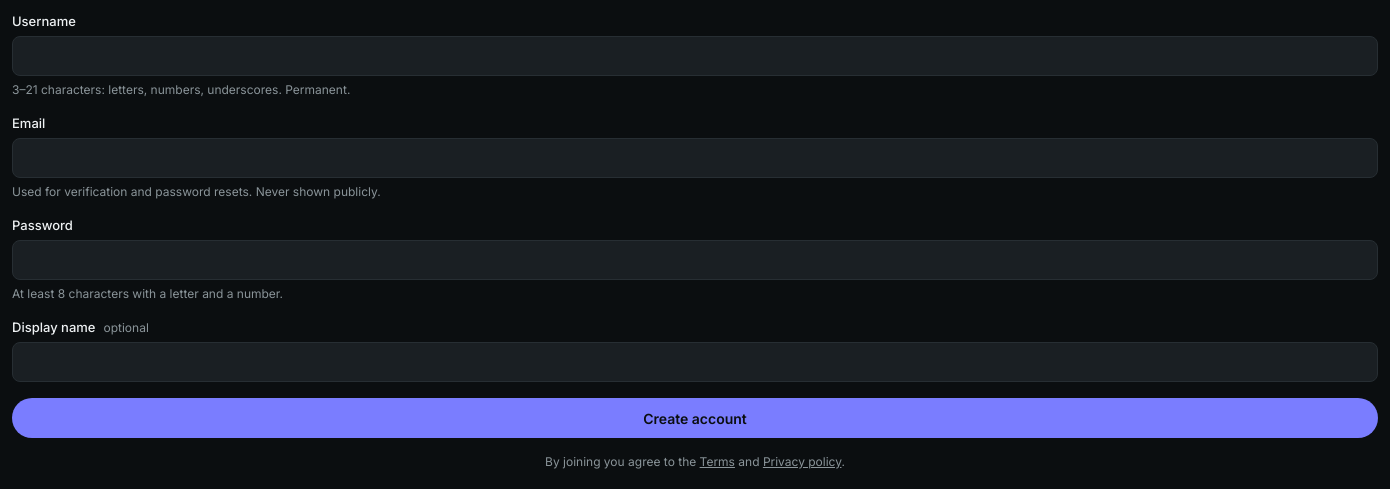
Test: RegisterForm › maps server field errors onto the matching inputs
The width and height of the screenshot is (1390, 489).
Type "ada_l" into the field labelled "Username".
click(695, 56); type("ada_l")  # box 12,36 -> 1378,76
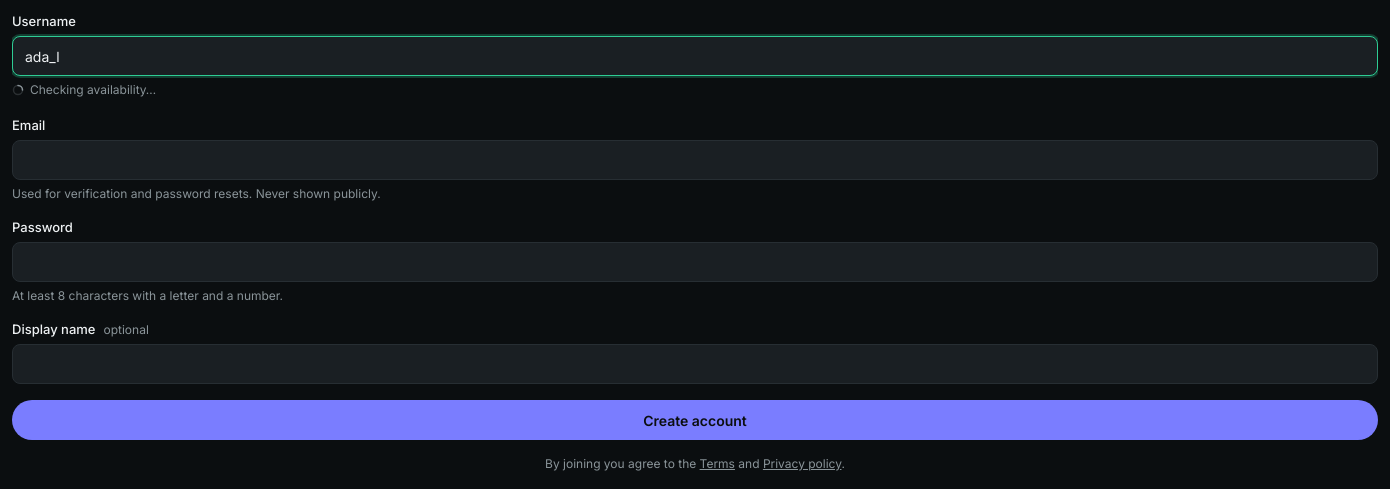
Type "ada@example.com" into the field labelled "Email".
click(695, 160); type("ada@example.com")  # box 12,140 -> 1378,180
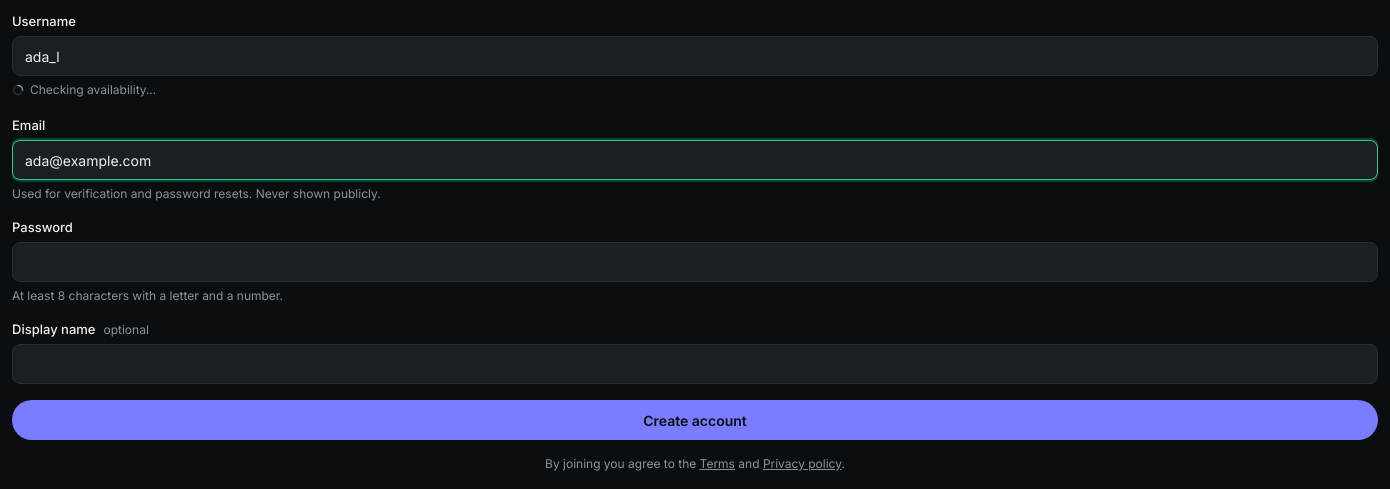
Type "abcd1234" into the password field labelled "Password".
click(695, 262); type("abcd1234")  # box 12,242 -> 1378,282
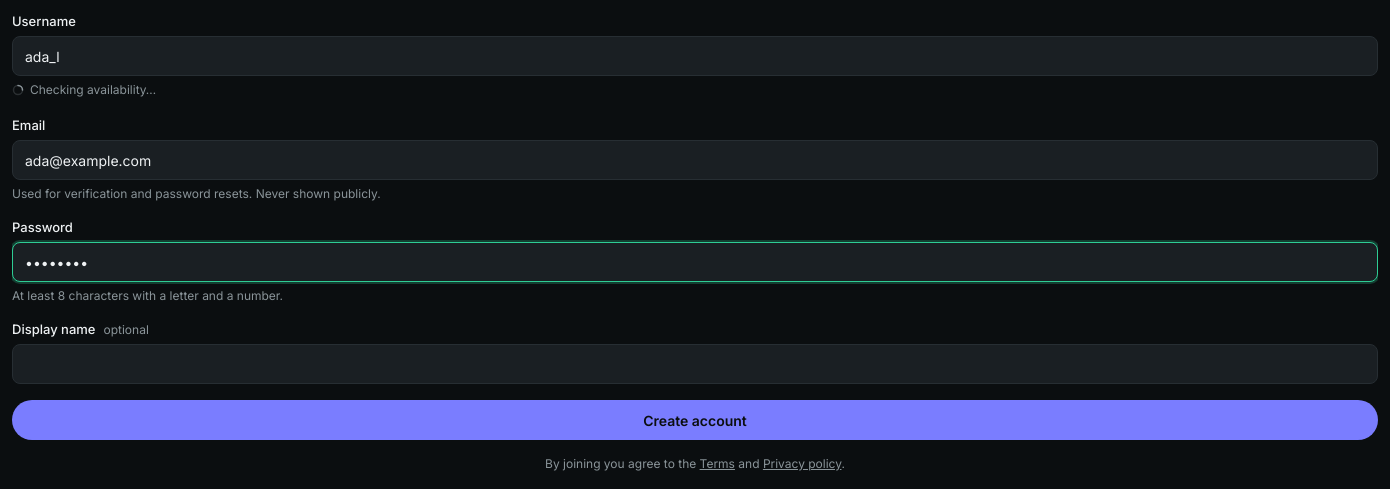
Click the button "Create account".
click(695, 420)  # box 12,400 -> 1378,440
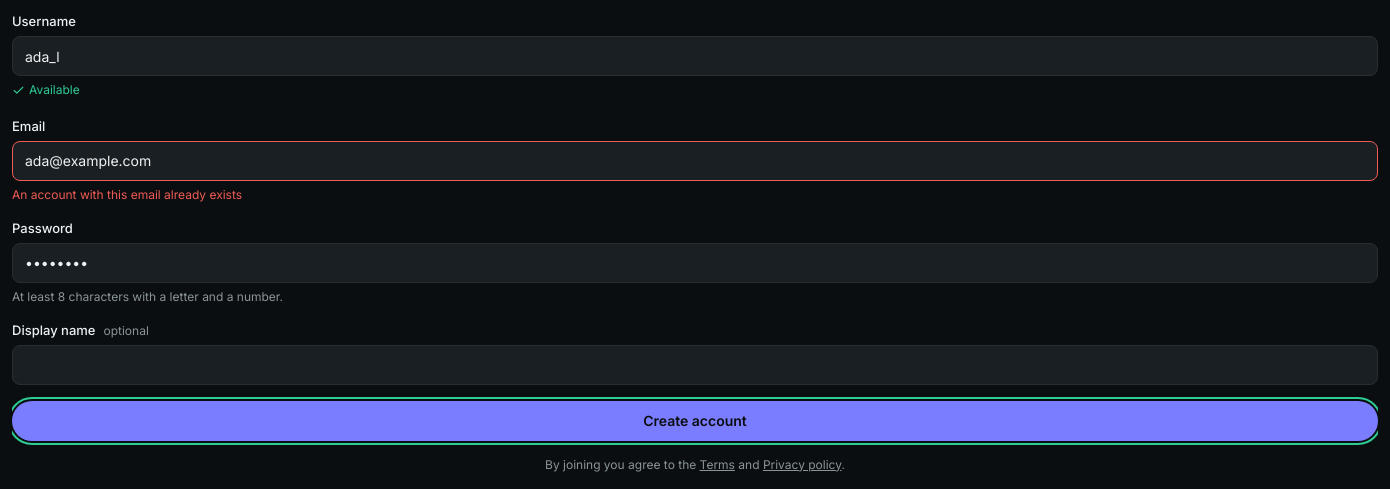
Expected: the text "An account with this email already exists" is shown, 12,186 -> 242,202
